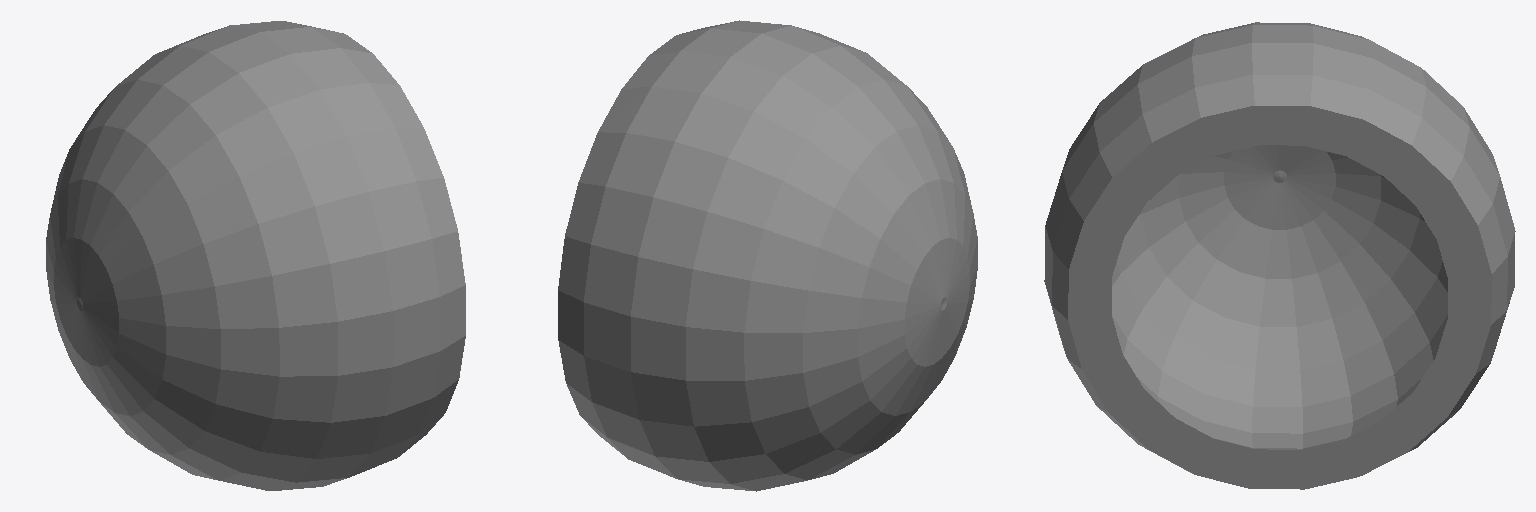
URDF robot description (cube.urdf):
<?xml version="0.0" ?> 
<robot name="cube.urdf"> 
<link name="legobrick"> 
<contact> 
<lateral_friction value="1.0"/>
<rolling_friction value="0.0"/>
<contact_cfm value="0.0"/>
<contact_erp value="1.0"/>
</contact> 
<inertial> 
<origin rpy="0 0 0" xyz="0.0 0.0 0.0"/> 
<mass value="0.1"/> 
<inertia ixx="1" ixy="0" ixz="0" iyy="1" iyz="0" izz="1"/> 
</inertial> 
<visual> 
<origin rpy="1.570796 0 0" xyz="0.0008529737991266417 1.0917030568615475e-08 -6.550218340537004e-09"/> 
<geometry> 
<mesh filename="77301246b265a4d3a538bf55f6b58cef_1.obj" scale="1 1 1"/> 
</geometry> 
<material name="yellow"> 
<color rgba="0.6 0.6 0.6 1"/> 
</material> 
</visual> 
<collision> 
<origin rpy="1.570796 0 0" xyz="0.0008529737991266417 1.0917030568615475e-08 -6.550218340537004e-09"/> 
<geometry> 
<mesh filename="77301246b265a4d3a538bf55f6b58cef_1_col.obj" scale="1 1 1"/> 
</geometry> 
</collision> 
</link> 
</robot>

--- Render facts (derived) ---
The picture shows the robot from 3 angles, left to right: view 1: azimuth 30°, elevation 25°; view 2: azimuth 150°, elevation 25°; view 3: azimuth 270°, elevation 25°; orthographic projection.
Model cube.urdf with 1 links and 0 joints (none), rooted at legobrick, posed every joint at zero.
Links seen in each view (by area): view 1: legobrick; view 2: legobrick; view 3: legobrick.
Boxes of the visible links, box(x1,y1,x2,y2) form: legobrick: box(46, 21, 465, 490); legobrick: box(558, 20, 977, 491); legobrick: box(1044, 22, 1515, 489).
Size in the robot's own frame: 0.0311 by 0.045 by 0.045 metres.
1 mesh visuals loaded from 1 distinct referenced files (1 OBJ).